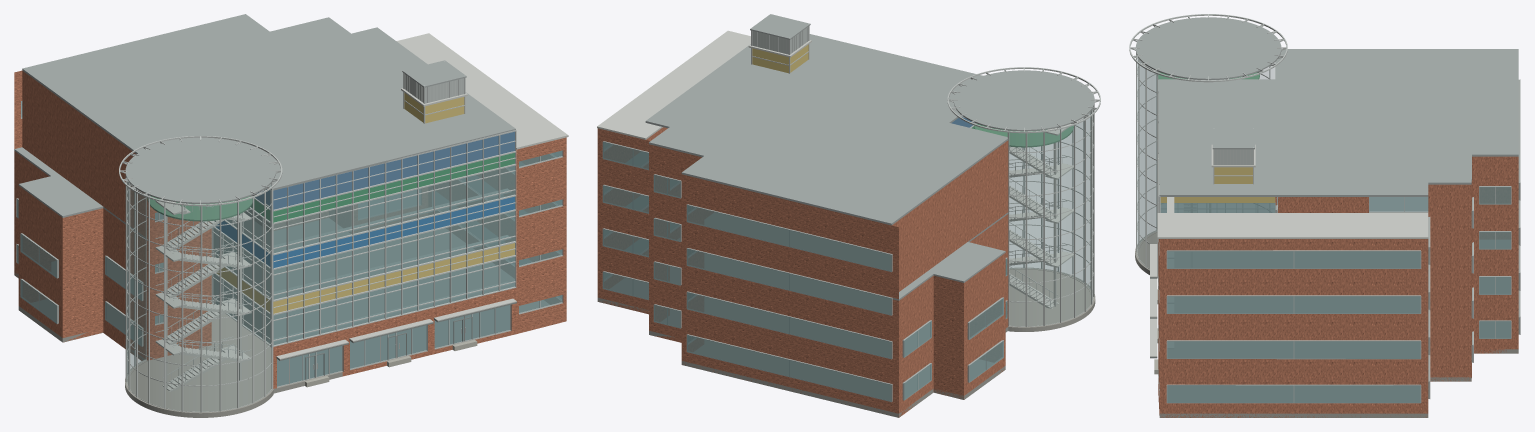
3 renders of one model, left to right at view 1: azimuth 30°, elevation 25°; view 2: azimuth 150°, elevation 25°; view 3: azimuth 270°, elevation 25°, orthographic. The views are drawn at different scales.
Visible parts, largest first — view 1: yonsei-plaza__mainSteppedRoof, yonsei-plaza__cylinderGlass, yonsei-plaza__exactOSMFoundation, yonsei-plaza__mainCurtainGlass, yonsei-plaza__upperLeftSetbackWall, yonsei-plaza__rightBrickTower, yonsei-plaza__cylinderRoofDisc, yonsei-plaza__cylinderPrimaryMullions, yonsei-plaza__continuousFacadeMullions, yonsei-plaza__frontShopBrickGlass, yonsei-plaza__cylinderSetbackRearWall, yonsei-plaza__estimatedRearSide_1 (+40 smaller); view 2: yonsei-plaza__mainSteppedRoof, yonsei-plaza__estimatedRearSide_5, yonsei-plaza__exactOSMFoundation, yonsei-plaza__estimatedRearSide_5Glass, yonsei-plaza__cylinderGlass, yonsei-plaza__upperLeftSetbackWall, yonsei-plaza__cylinderRoofDisc, yonsei-plaza__estimatedRearSide_10, yonsei-plaza__brickTowerCoping, yonsei-plaza__estimatedRearSide_8, yonsei-plaza__cylinderPrimaryMullions, yonsei-plaza__estimatedRearSide_3 (+29 smaller); view 3: yonsei-plaza__mainSteppedRoof, yonsei-plaza__estimatedRearSide_11, yonsei-plaza__exactOSMFoundation, yonsei-plaza__estimatedRearSide_11Glass, yonsei-plaza__estimatedRearSide_9, yonsei-plaza__cylinderRoofDisc, yonsei-plaza__brickTowerCoping, yonsei-plaza__estimatedRearSide_6, yonsei-plaza__cylinderGlass, yonsei-plaza__estimatedRearSide_11Frames, yonsei-plaza__estimatedRearSide_6Glass, yonsei-plaza__cylinderPrimaryMullions (+16 smaller).
Boxes of the visible parts, x1,y1,x2,y2 form: yonsei-plaza__mainSteppedRoof: [22, 14, 515, 190]; yonsei-plaza__cylinderGlass: [127, 182, 271, 411]; yonsei-plaza__exactOSMFoundation: [14, 218, 548, 411]; yonsei-plaza__mainCurtainGlass: [273, 165, 514, 345]; yonsei-plaza__upperLeftSetbackWall: [22, 71, 147, 238]; yonsei-plaza__rightBrickTower: [516, 137, 566, 333]; yonsei-plaza__cylinderRoofDisc: [125, 139, 275, 203]; yonsei-plaza__cylinderPrimaryMullions: [125, 149, 273, 412]; yonsei-plaza__continuousFacadeMullions: [270, 130, 516, 347]; yonsei-plaza__frontShopBrickGlass: [277, 305, 509, 386]; yonsei-plaza__cylinderSetbackRearWall: [147, 201, 211, 359]; yonsei-plaza__estimatedRearSide_1: [62, 208, 103, 342]; yonsei-plaza__mainSteppedRoof: [645, 34, 1008, 225]; yonsei-plaza__estimatedRearSide_5: [681, 174, 898, 417]; yonsei-plaza__exactOSMFoundation: [597, 213, 1090, 417]; yonsei-plaza__estimatedRearSide_5Glass: [687, 205, 891, 401]; yonsei-plaza__cylinderGlass: [1009, 111, 1092, 325]; yonsei-plaza__upperLeftSetbackWall: [892, 140, 1008, 291]; yonsei-plaza__cylinderRoofDisc: [953, 70, 1094, 131]; yonsei-plaza__estimatedRearSide_10: [597, 128, 650, 314]; yonsei-plaza__brickTowerCoping: [597, 30, 750, 139]; yonsei-plaza__estimatedRearSide_8: [649, 144, 687, 342]; yonsei-plaza__cylinderPrimaryMullions: [1007, 70, 1094, 327]; yonsei-plaza__estimatedRearSide_3: [933, 275, 963, 399]; yonsei-plaza__mainSteppedRoof: [1158, 49, 1518, 196]; yonsei-plaza__estimatedRearSide_11: [1159, 239, 1428, 417]; yonsei-plaza__exactOSMFoundation: [1139, 233, 1518, 417]; yonsei-plaza__estimatedRearSide_11Glass: [1167, 251, 1420, 402]; yonsei-plaza__estimatedRearSide_9: [1428, 184, 1471, 381]; yonsei-plaza__cylinderRoofDisc: [1135, 17, 1281, 80]; yonsei-plaza__brickTowerCoping: [1157, 213, 1428, 238]; yonsei-plaza__estimatedRearSide_6: [1472, 156, 1518, 353]; yonsei-plaza__cylinderGlass: [1137, 59, 1274, 268]; yonsei-plaza__estimatedRearSide_11Frames: [1166, 250, 1421, 403]; yonsei-plaza__estimatedRearSide_6Glass: [1479, 187, 1510, 338]; yonsei-plaza__cylinderPrimaryMullions: [1136, 17, 1277, 278].
Size of the model in its own units: 50.34 by 28.25 by 42.54.
17 materials, 1 textured.
